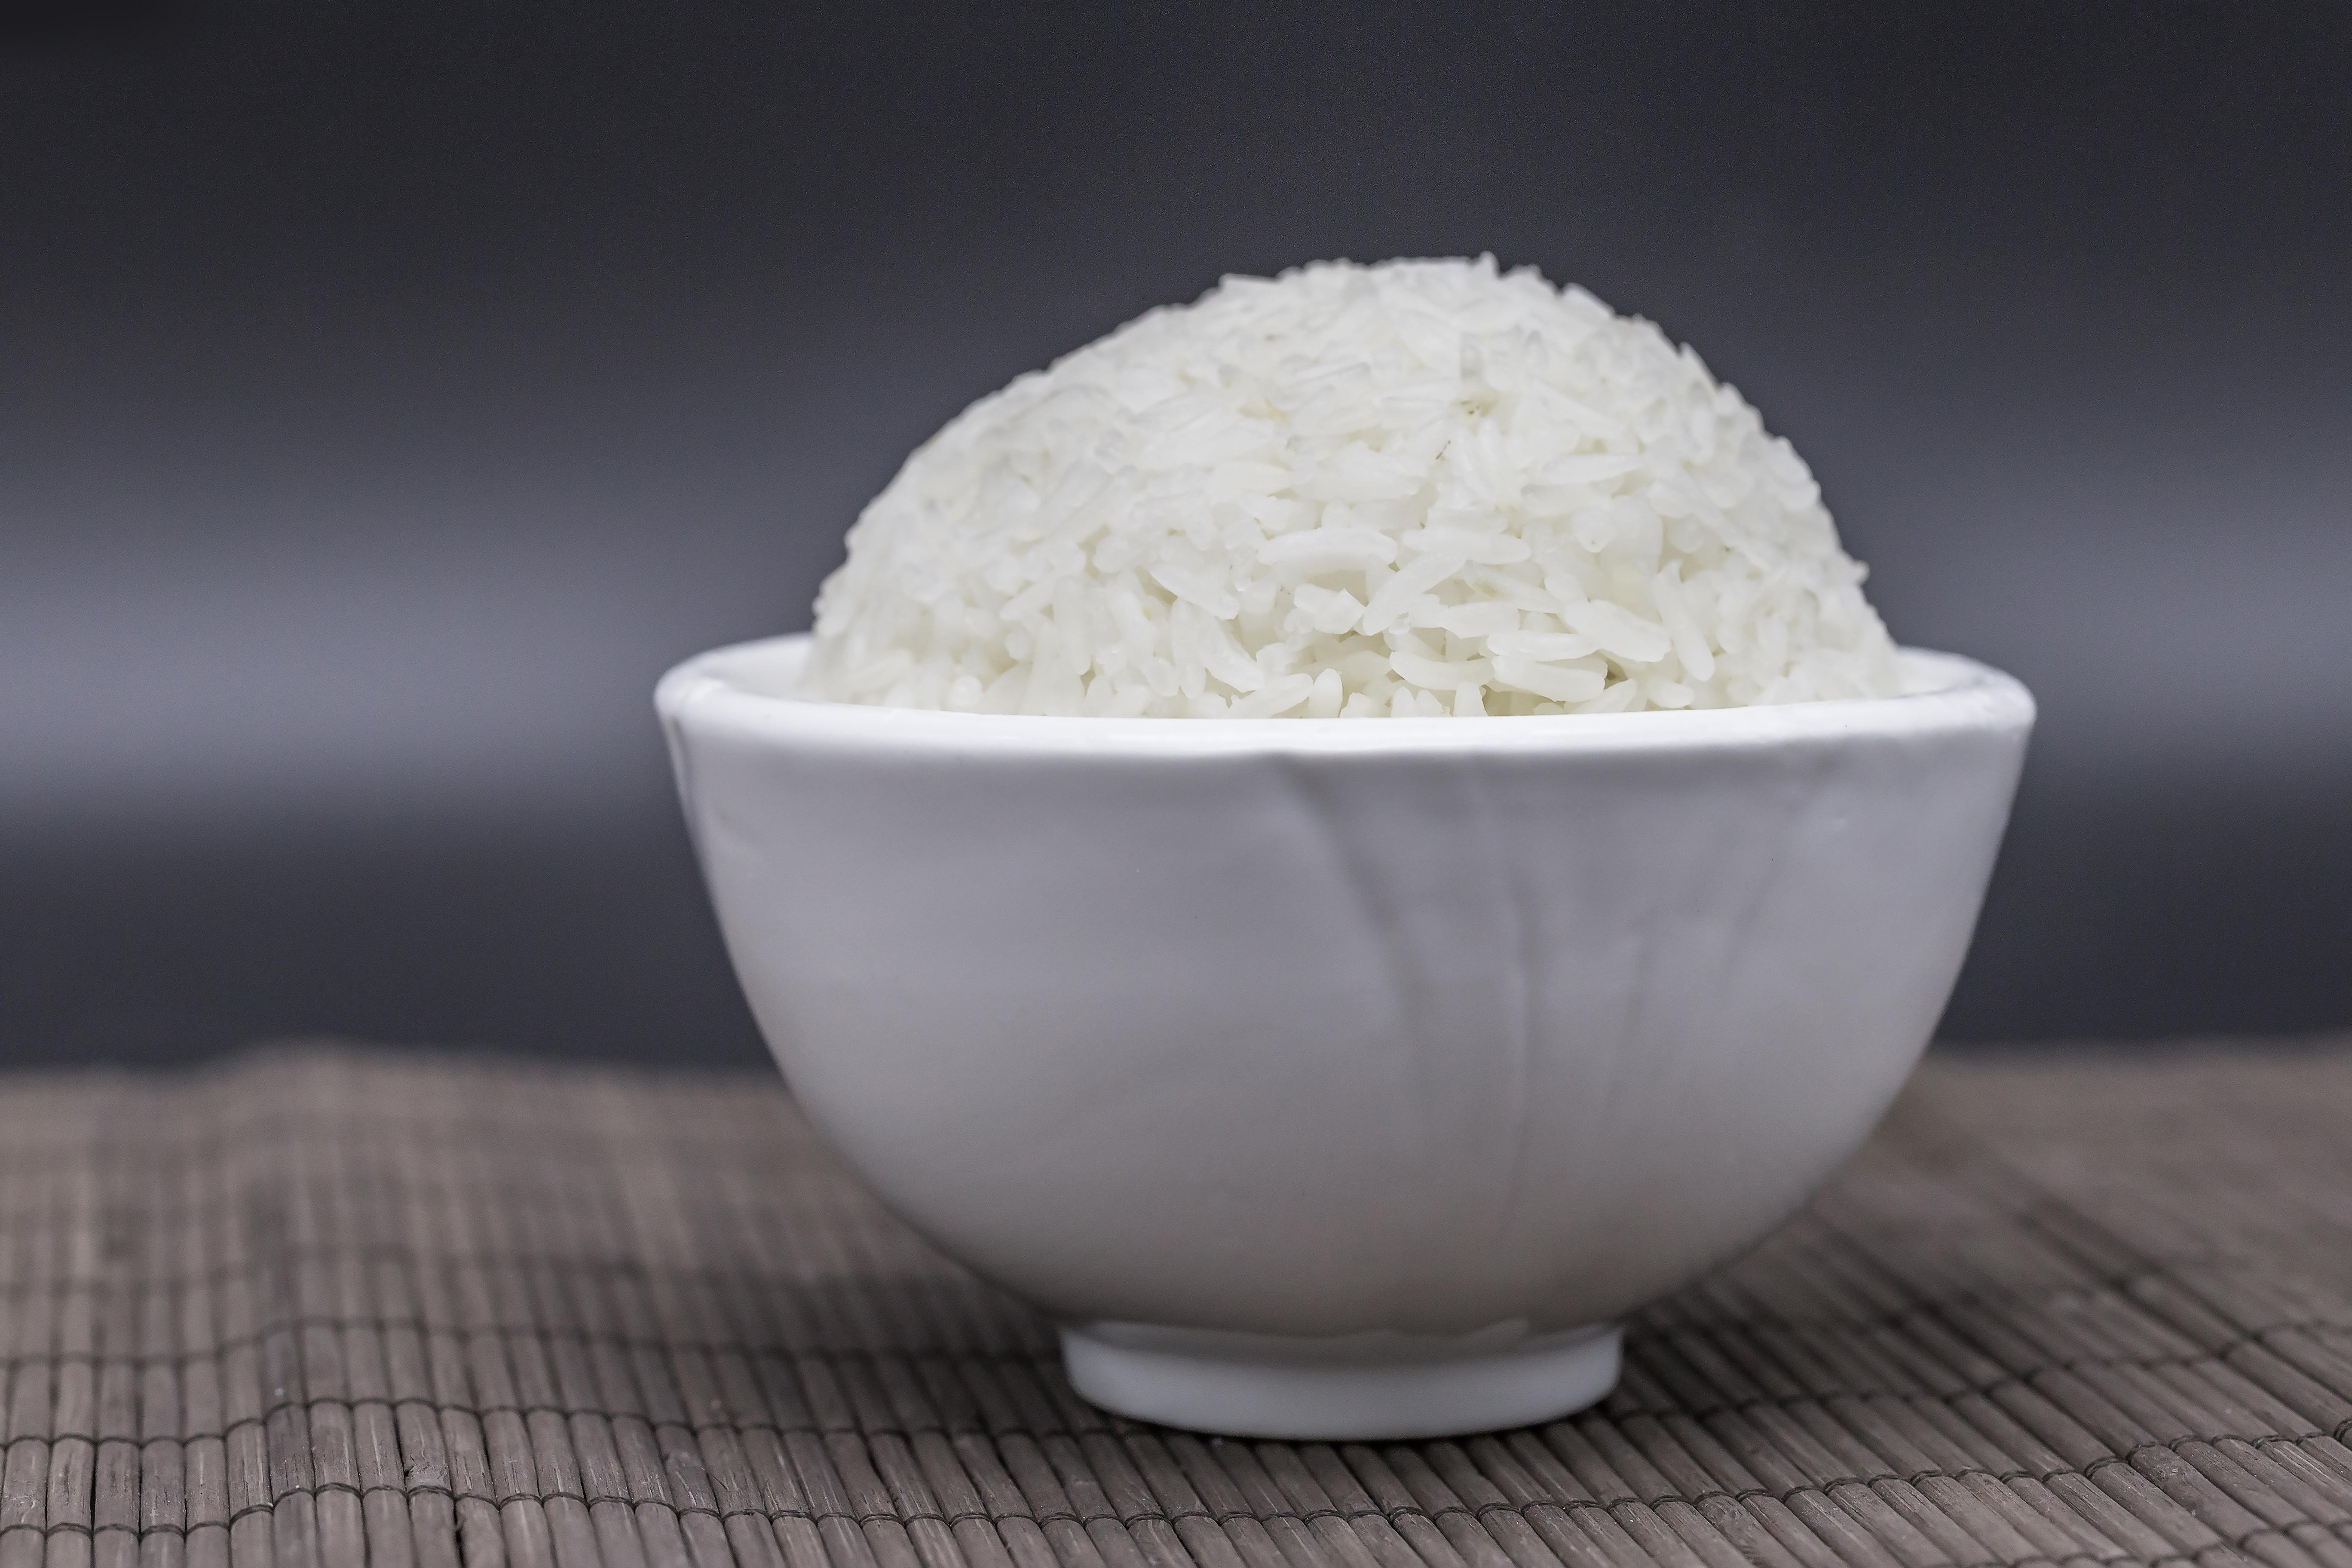rice: (821, 280, 1881, 728)
